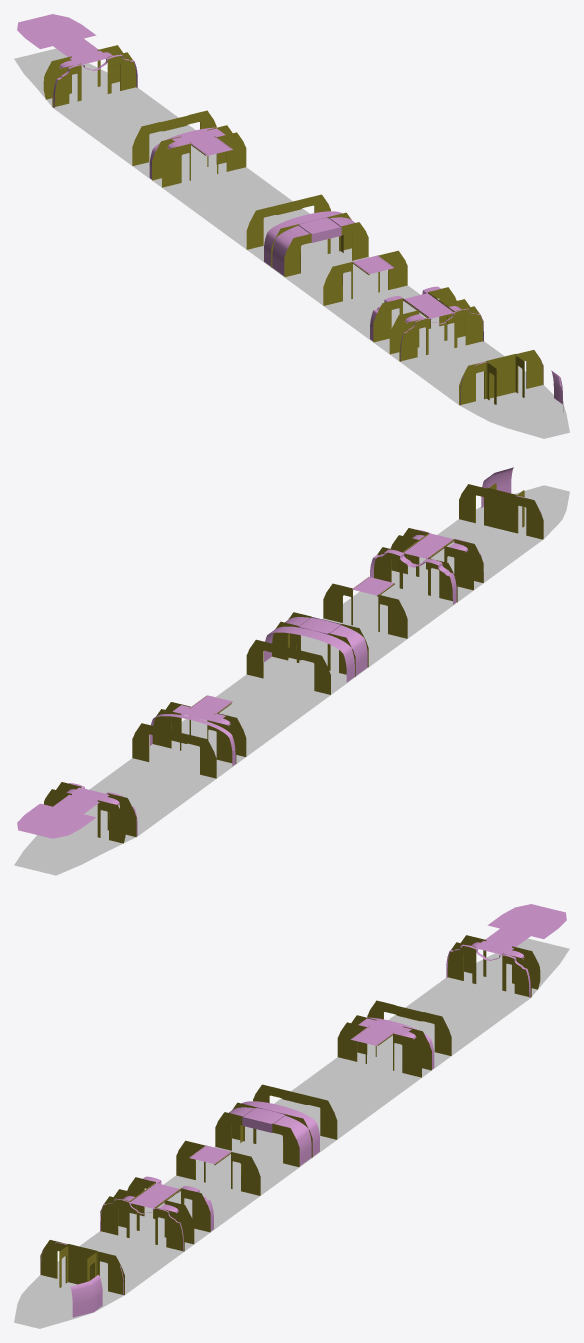
Rendered from Floor_Ceiling.fbx.
The picture shows the model from 3 angles, top to bottom: view 1: azimuth 30°, elevation 25°; view 2: azimuth 150°, elevation 25°; view 3: azimuth 330°, elevation 25°; orthographic projection.
Visible parts, largest first — view 1: SM_Floor, SM_Walls_1, SM_Ceiling; view 2: SM_Floor, SM_Walls_1, SM_Ceiling; view 3: SM_Floor, SM_Walls_1, SM_Ceiling.
Part boxes in pixels (<box>): SM_Floor: <box>14,48,569,438</box>; SM_Walls_1: <box>43,45,543,405</box>; SM_Ceiling: <box>17,14,563,412</box>; SM_Floor: <box>14,485,569,875</box>; SM_Walls_1: <box>44,483,543,843</box>; SM_Ceiling: <box>17,467,540,838</box>; SM_Floor: <box>14,938,569,1328</box>; SM_Walls_1: <box>40,935,540,1295</box>; SM_Ceiling: <box>40,904,566,1317</box>.
Bounding box in the file's own units: 597 × 257 × 6394.
